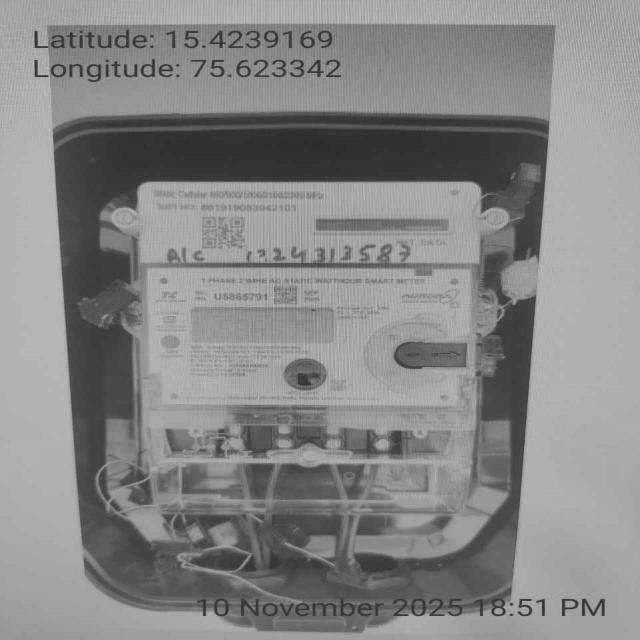meter: (133, 185, 478, 405)
